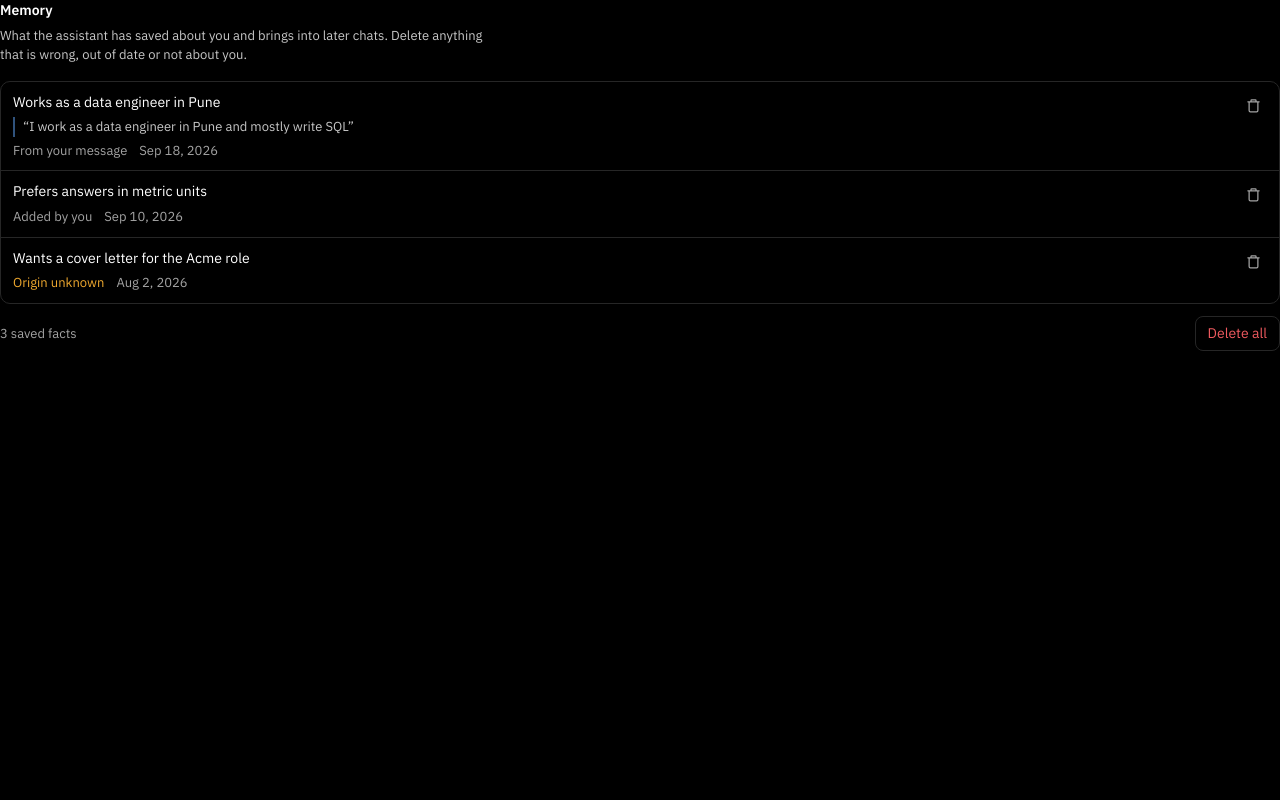
where the panel opens from › after a delete, focus moves to the next row rather than falling to <body>
Expected: the number of list items with test id "memory-fact" is 3, left=1, top=82, right=1279, bottom=170; left=1, top=170, right=1279, bottom=237; left=1, top=237, right=1279, bottom=303
Step 1. Click the button named "Delete" → (1254, 105), box left=1240, top=92, right=1267, bottom=119
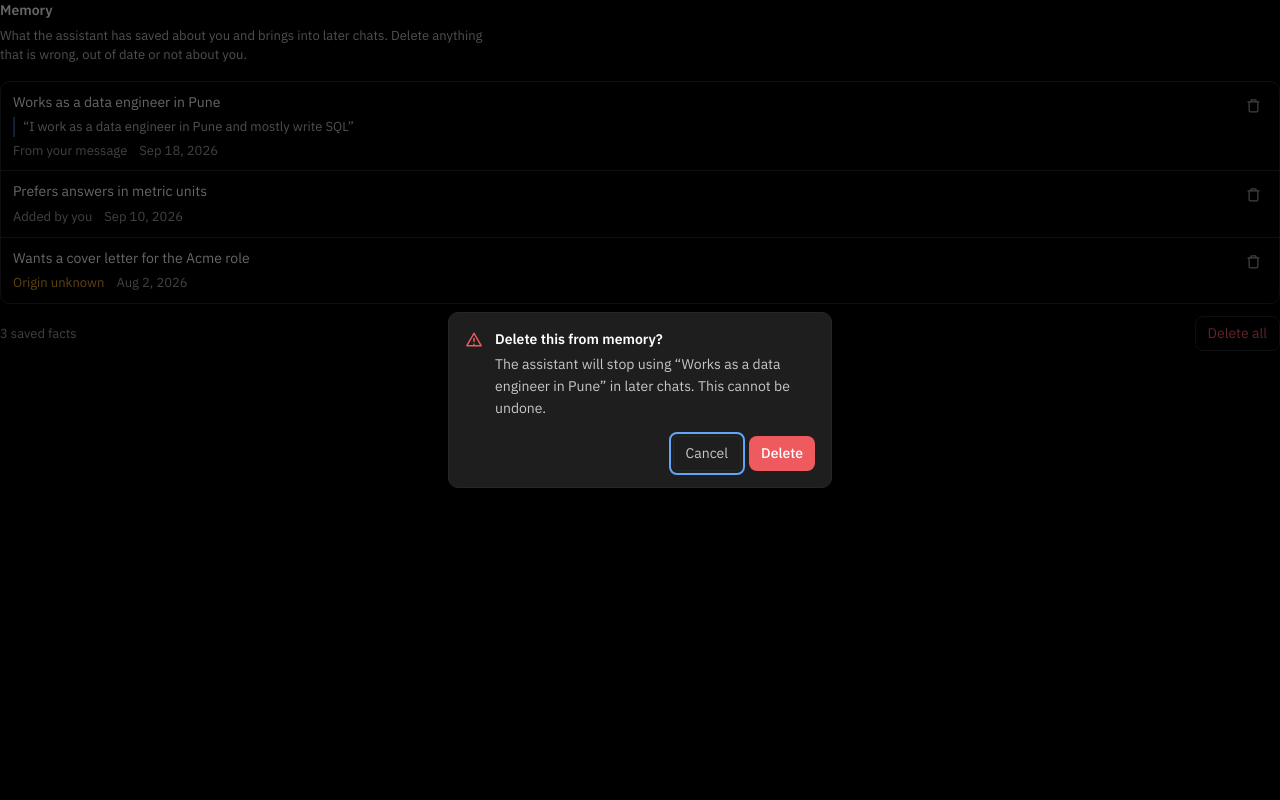
Step 2. Click the button "Delete" → (782, 453), box left=749, top=436, right=815, bottom=471
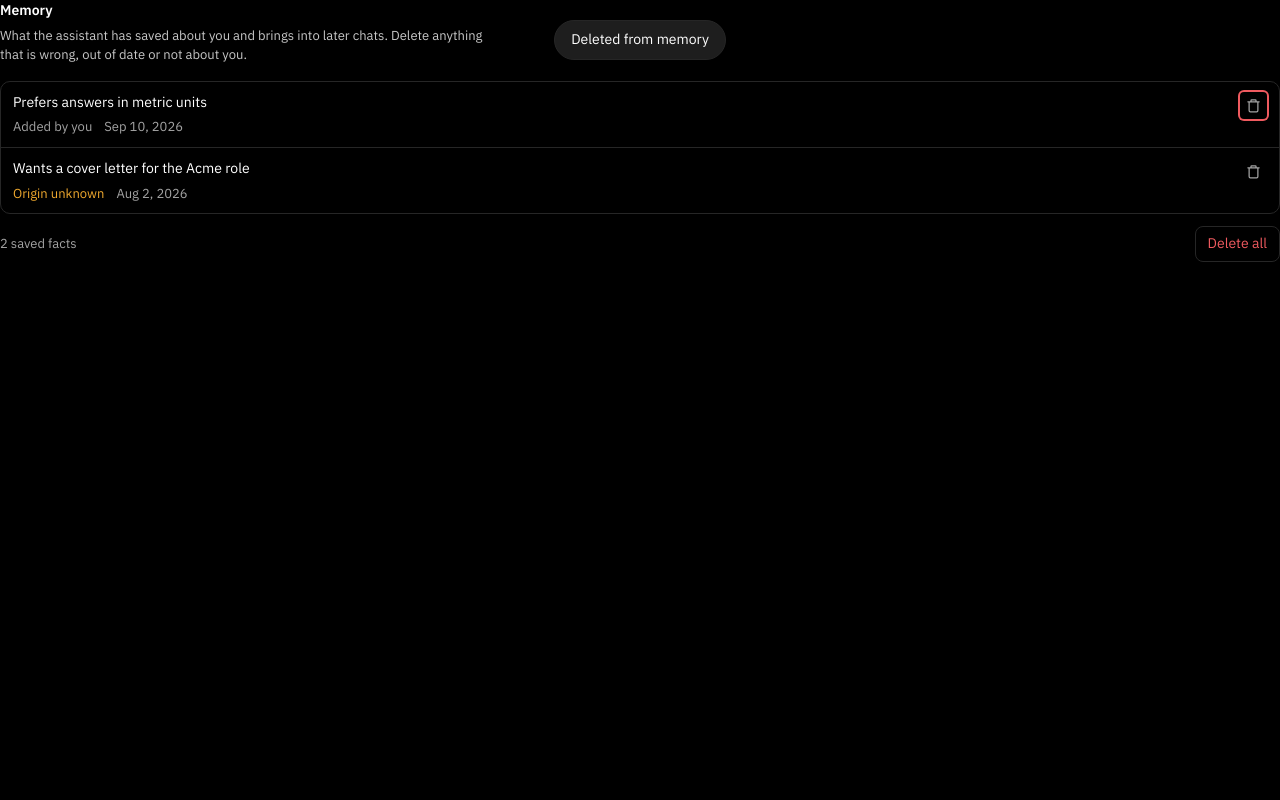
Expected: the list item with test id "memory-fact" shows "Prefers answers in metric units", left=13, top=93, right=207, bottom=111
Result: the number of list items with test id "memory-fact" is 2 at left=1, top=82, right=1279, bottom=147; left=1, top=147, right=1279, bottom=213
